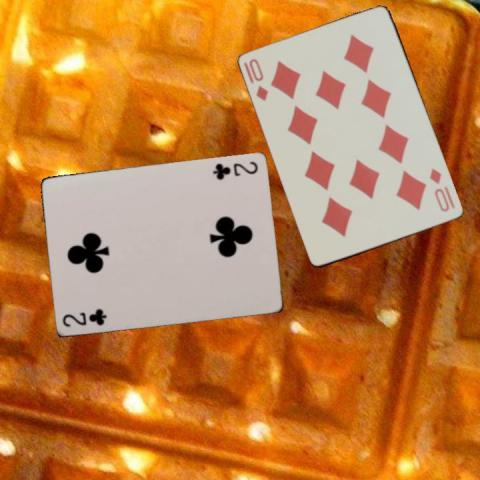10d: (426, 166, 456, 214), (246, 55, 270, 103)
2c: (210, 158, 259, 181), (59, 306, 108, 328)
